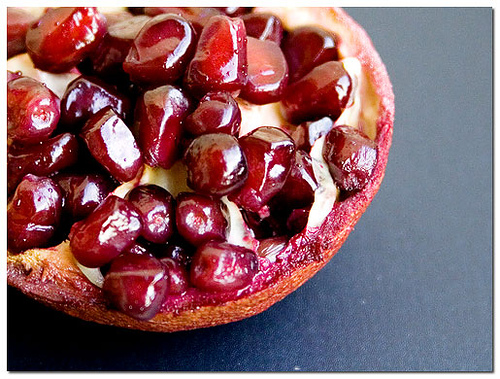pomogranate: (6, 6, 394, 330)
